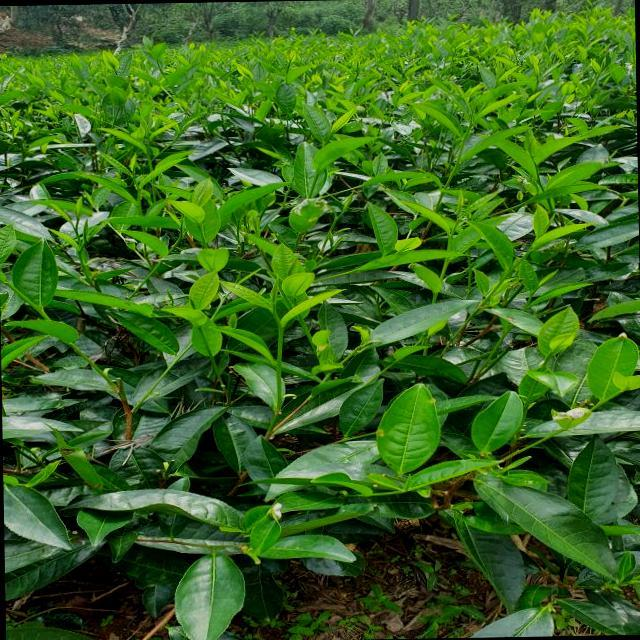Stem: (278, 325, 284, 331), (449, 235, 453, 240), (469, 123, 473, 127), (74, 228, 78, 231)
